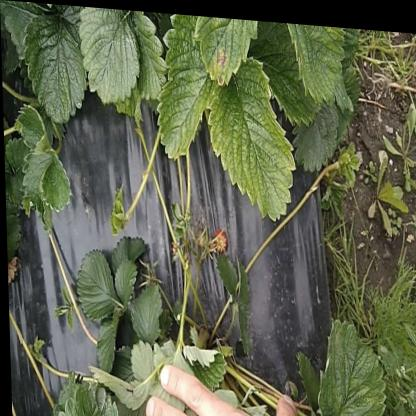ripe: (213, 224, 229, 252)
